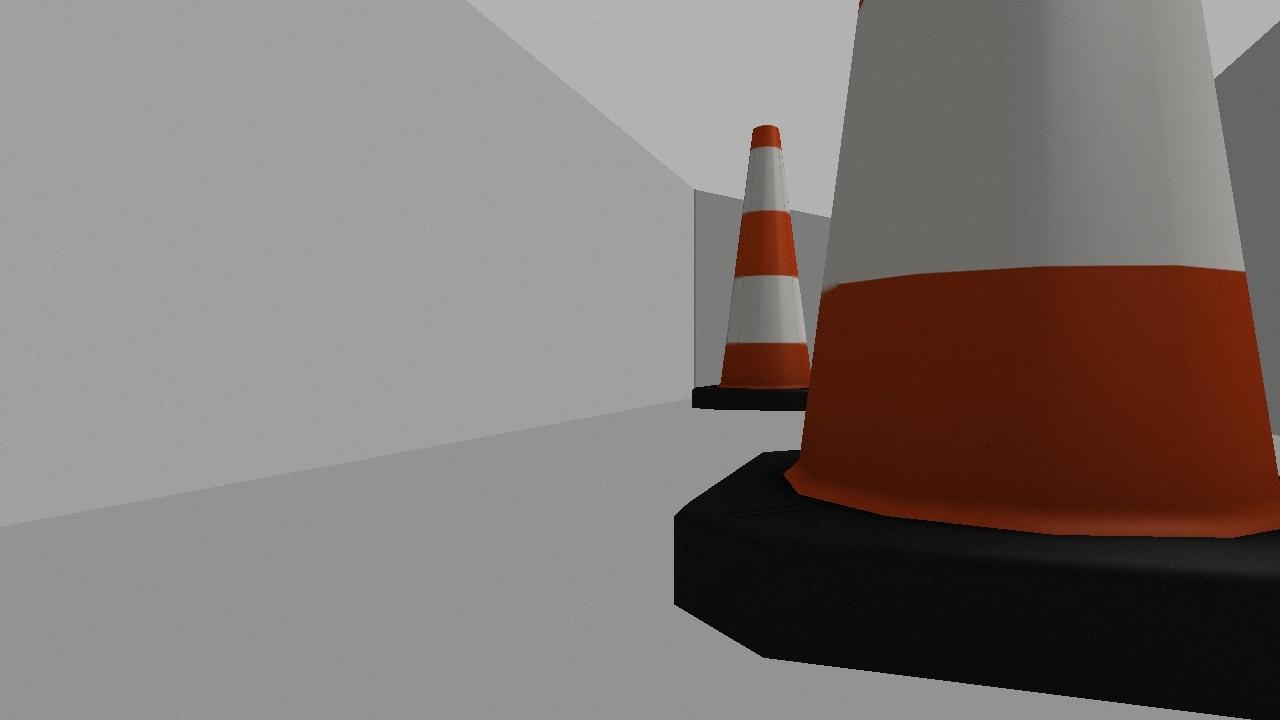cone_barrel: (650, 0, 1279, 719), (685, 114, 850, 422)
